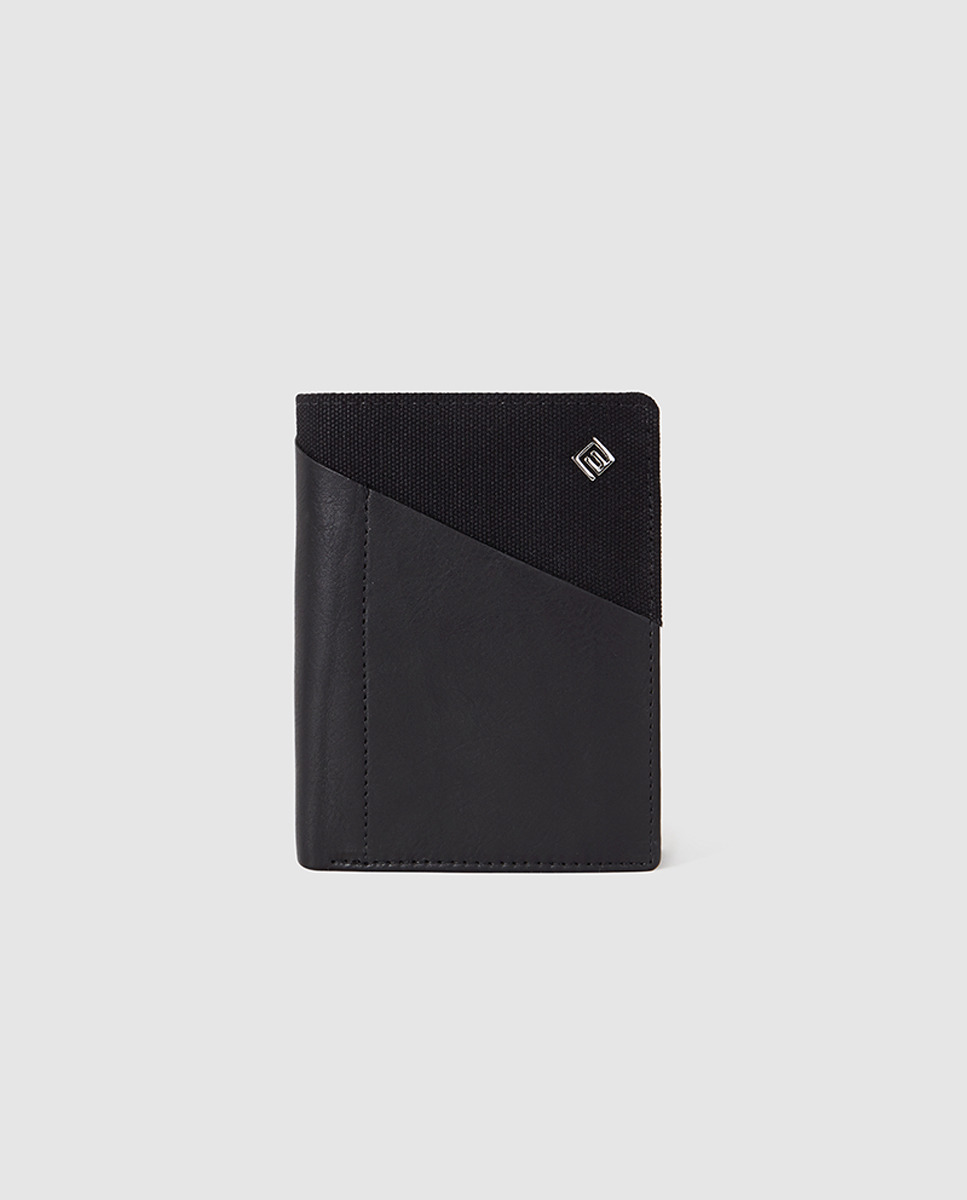monedero: (290, 391, 665, 875)
